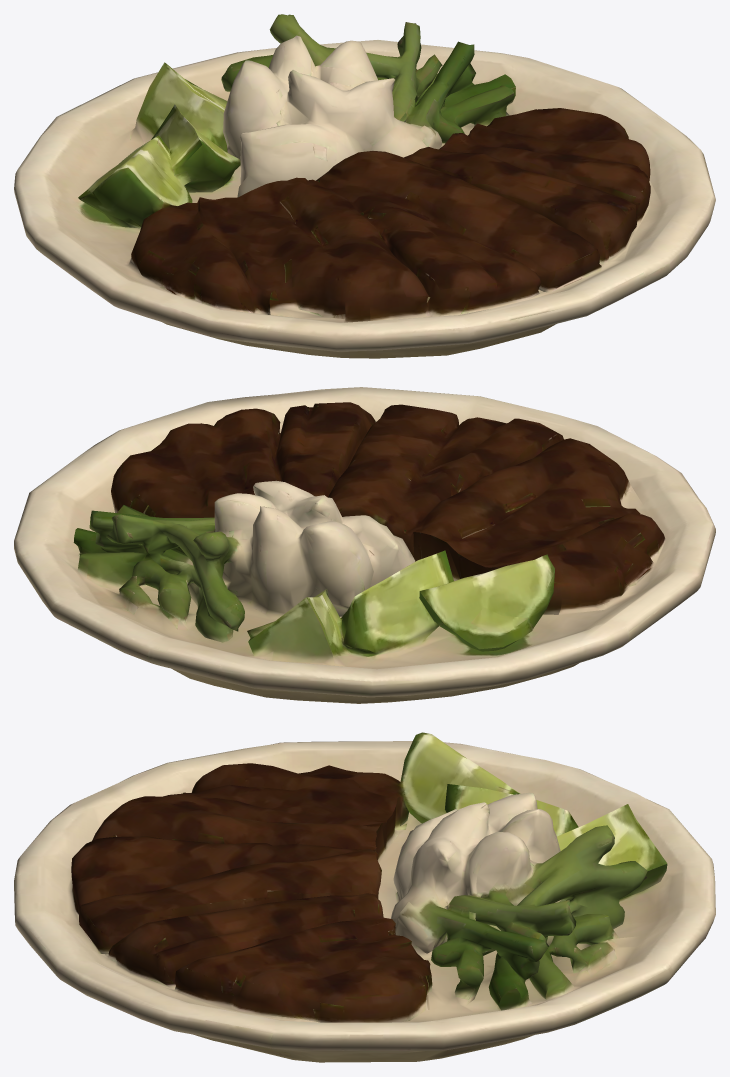
Rendered from carene-asada-optimized.glb.
3 views of the same model, one above another, from view 1: azimuth 30°, elevation 25°; view 2: azimuth 150°, elevation 25°; view 3: azimuth 270°, elevation 25° (orthographic). The views are drawn at different scales.
Parts seen in each view (by area): view 1: Mesh_0; view 2: Mesh_0; view 3: Mesh_0.
Boxes of the visible parts, <box> form: Mesh_0: <box>14,14,715,358</box>; Mesh_0: <box>14,387,715,703</box>; Mesh_0: <box>14,732,715,1062</box>.
Size of the model in its own units: 1.89 by 0.4344 by 1.89.
1 material, 1 textured.
